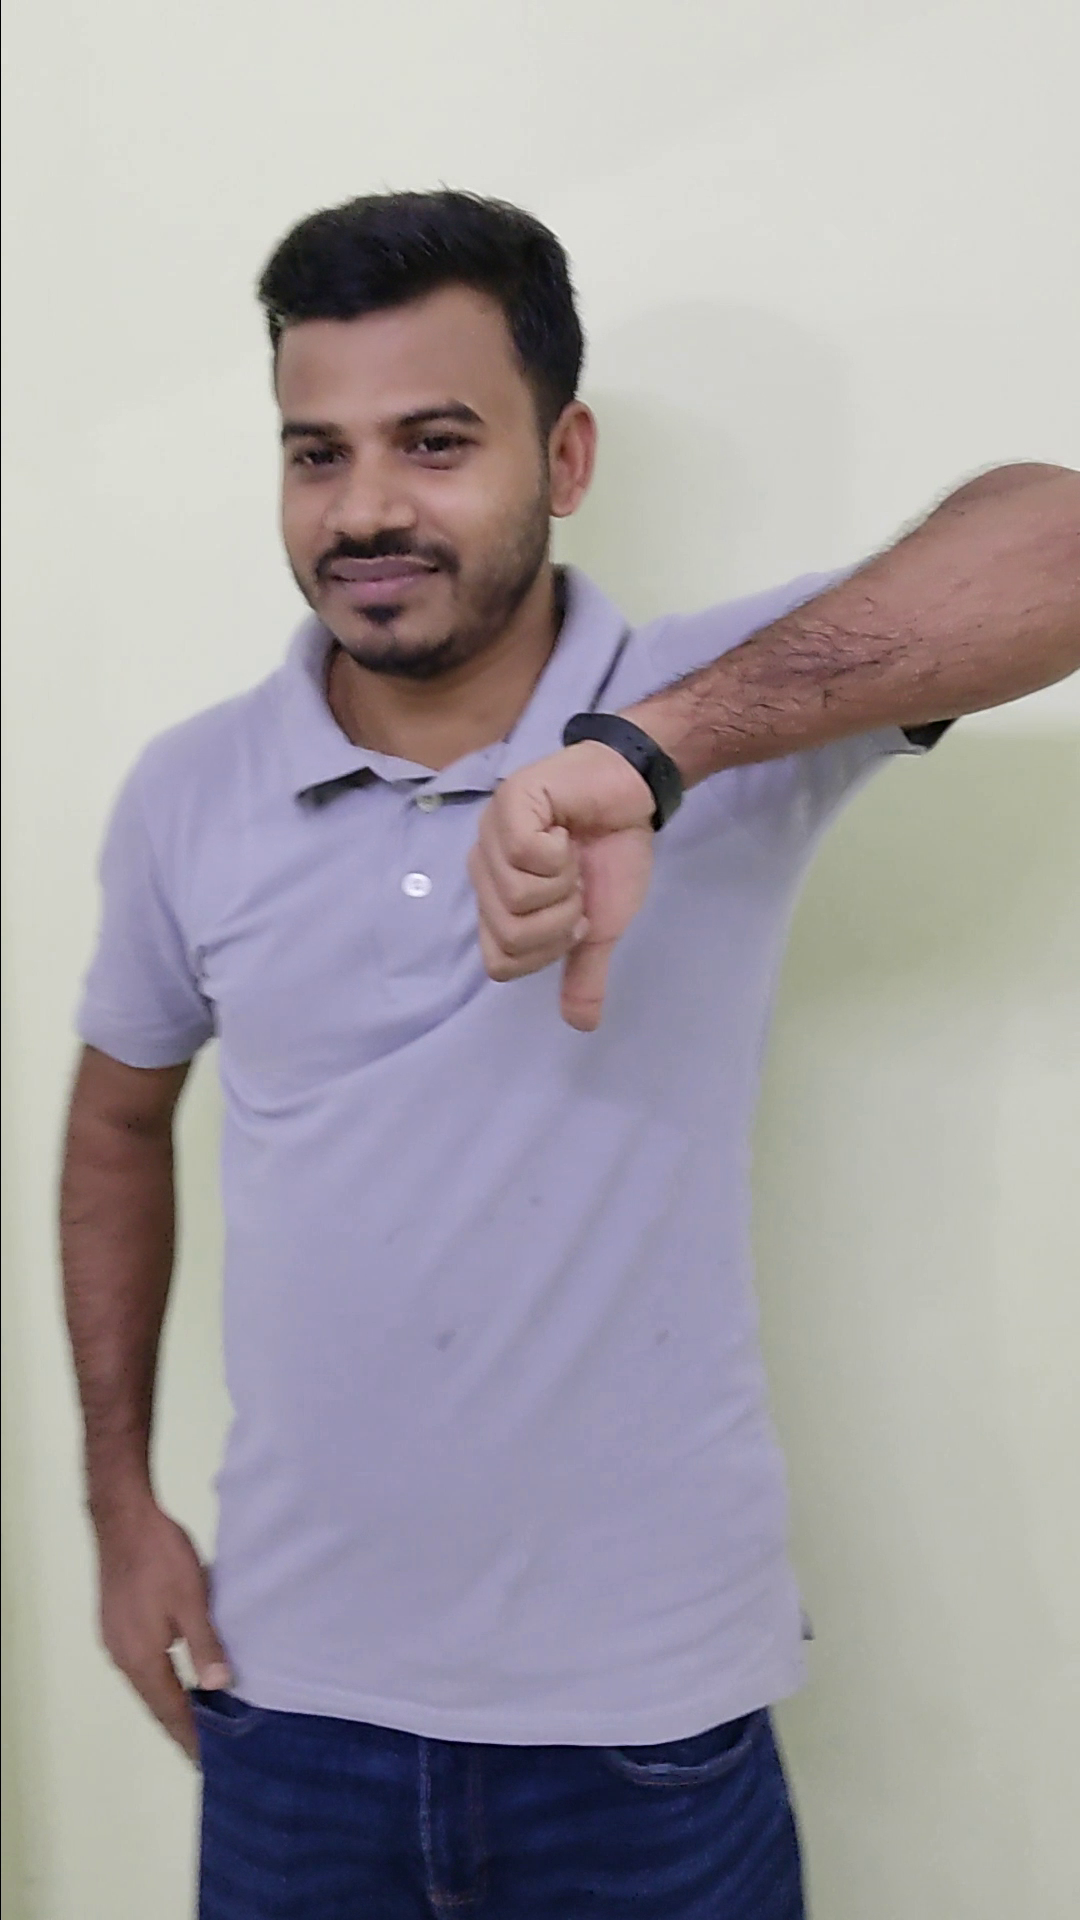Dislike: (450, 709, 673, 1047)
None: (71, 1486, 251, 1785)
